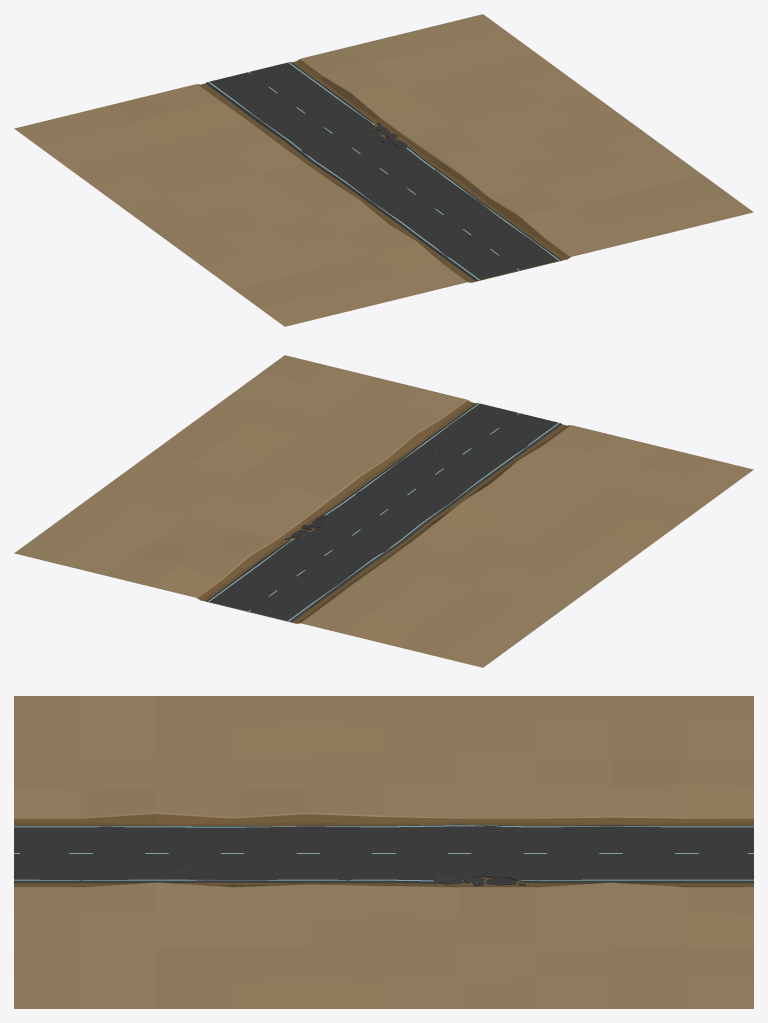
Rendered from model_road_dirt_straight_02.fbx.
The picture shows the model from 3 angles, top to bottom: view 1: azimuth 30°, elevation 25°; view 2: azimuth 150°, elevation 25°; view 3: azimuth 270°, elevation 25°; orthographic projection. The views are drawn at different scales.
Parts seen in each view (by area): view 1: model_road_dirt_straight_02; view 2: model_road_dirt_straight_02; view 3: model_road_dirt_straight_02.
Part boxes in pixels (x1,y1,x2,y2): model_road_dirt_straight_02: (14, 14, 753, 326); model_road_dirt_straight_02: (14, 355, 753, 667); model_road_dirt_straight_02: (14, 696, 753, 1008).
Bounding box in the file's own units: 6000 × 68.27 × 6000.
Materials: 1 (1 with a texture image).
